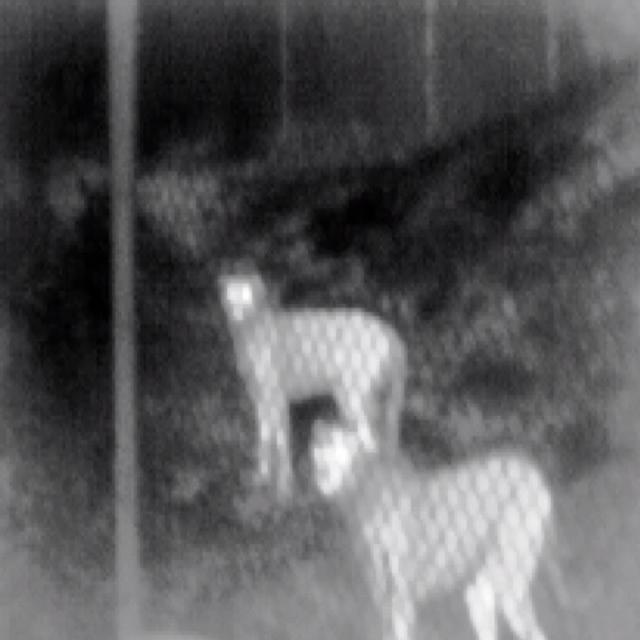cheetah: (312, 420, 552, 639), (221, 276, 405, 497)
